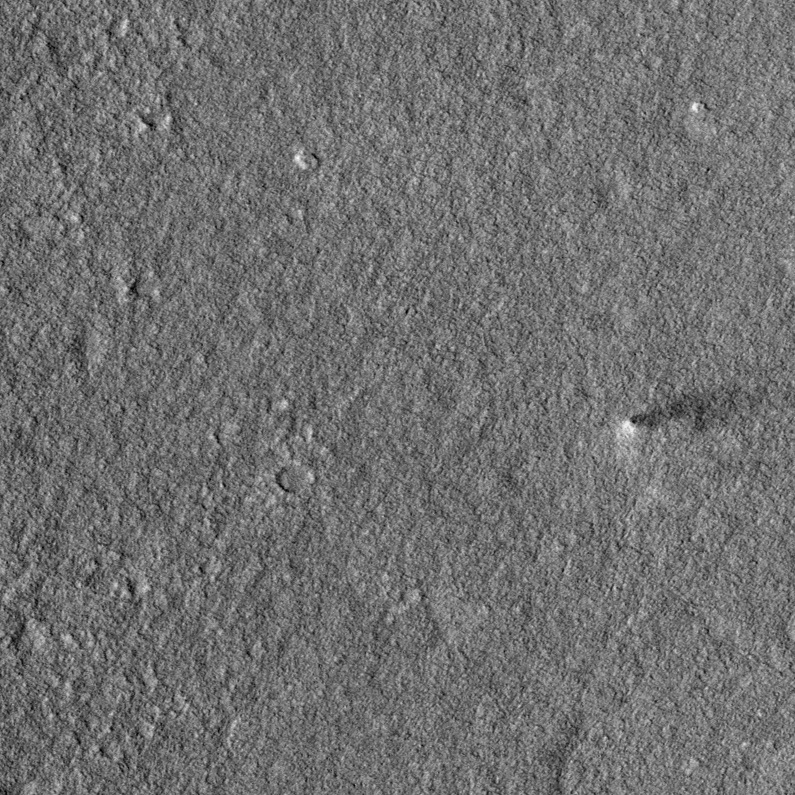dust_devil: (615, 385, 742, 441)
